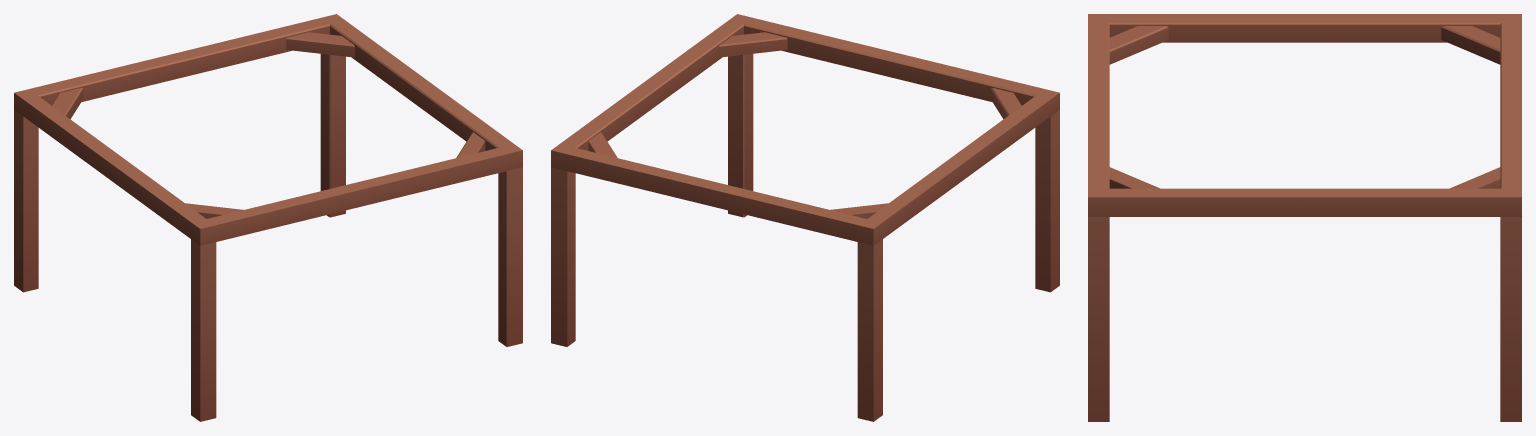
File: scaffold_frame_large.glb
3 views of the same model, side by side, from view 1: azimuth 30°, elevation 25°; view 2: azimuth 150°, elevation 25°; view 3: azimuth 270°, elevation 25° (orthographic). The views are drawn at different scales.
Parts seen in each view (by area): view 1: scaffold_frame_large; view 2: scaffold_frame_large; view 3: scaffold_frame_large.
Boxes of the visible parts, x1=… form: scaffold_frame_large: x1=14, y1=14, x2=522, y2=421; scaffold_frame_large: x1=551, y1=14, x2=1059, y2=421; scaffold_frame_large: x1=1088, y1=14, x2=1521, y2=421.
Size of the model in its own units: 7 by 4 by 7.
Materials: 1 (1 with a texture image).
